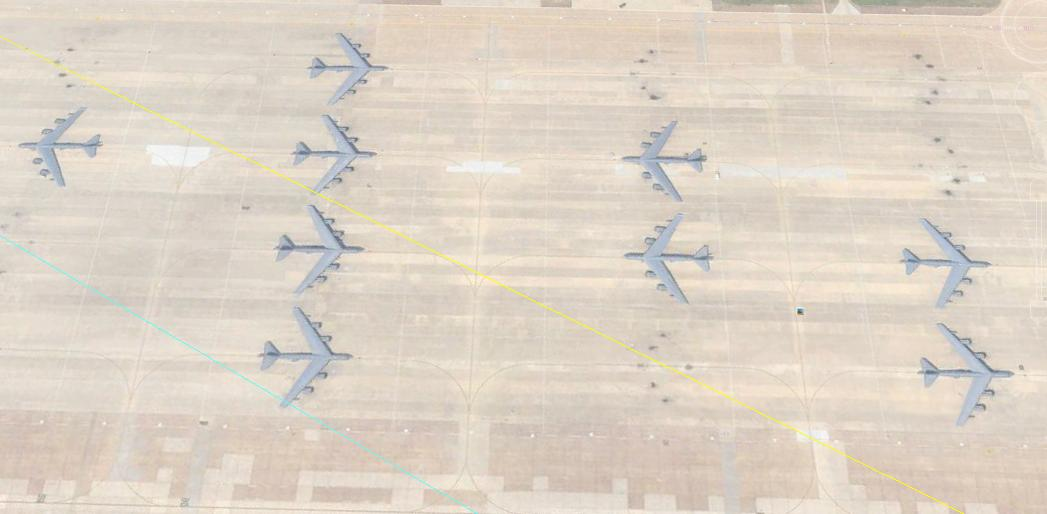B-52: (911, 320, 1016, 422), (253, 305, 353, 412), (272, 199, 365, 301), (898, 213, 988, 313), (622, 210, 716, 300), (620, 115, 709, 203), (16, 105, 107, 190), (291, 109, 380, 193), (305, 32, 394, 106)
